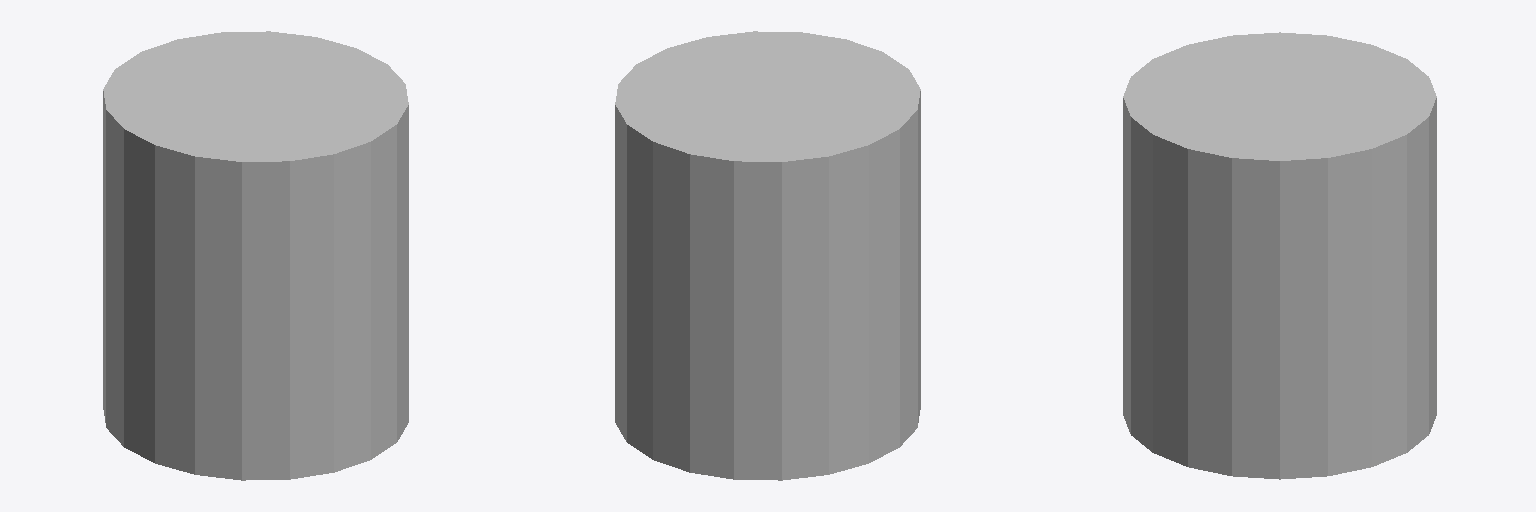
File: dogeCan.obj
3 views of the same model, side by side, from view 1: azimuth 30°, elevation 25°; view 2: azimuth 150°, elevation 25°; view 3: azimuth 270°, elevation 25° (orthographic).
Visible parts, largest first — view 1: pCylinder1; view 2: pCylinder1; view 3: pCylinder1.
Boxes of the visible parts, <box> form: pCylinder1: <box>103,31,408,480</box>; pCylinder1: <box>615,31,920,480</box>; pCylinder1: <box>1123,32,1436,479</box>.
Bounding box in the file's own units: 0.8644 × 0.9967 × 0.8904.